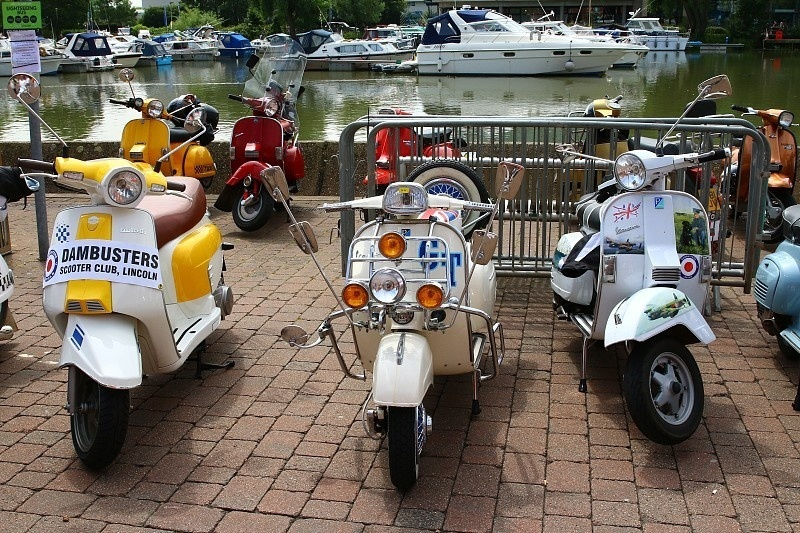non-vehicle: (40, 123, 242, 471), (302, 195, 505, 489), (550, 135, 728, 440), (217, 75, 308, 226), (752, 177, 800, 457), (0, 162, 21, 358)
